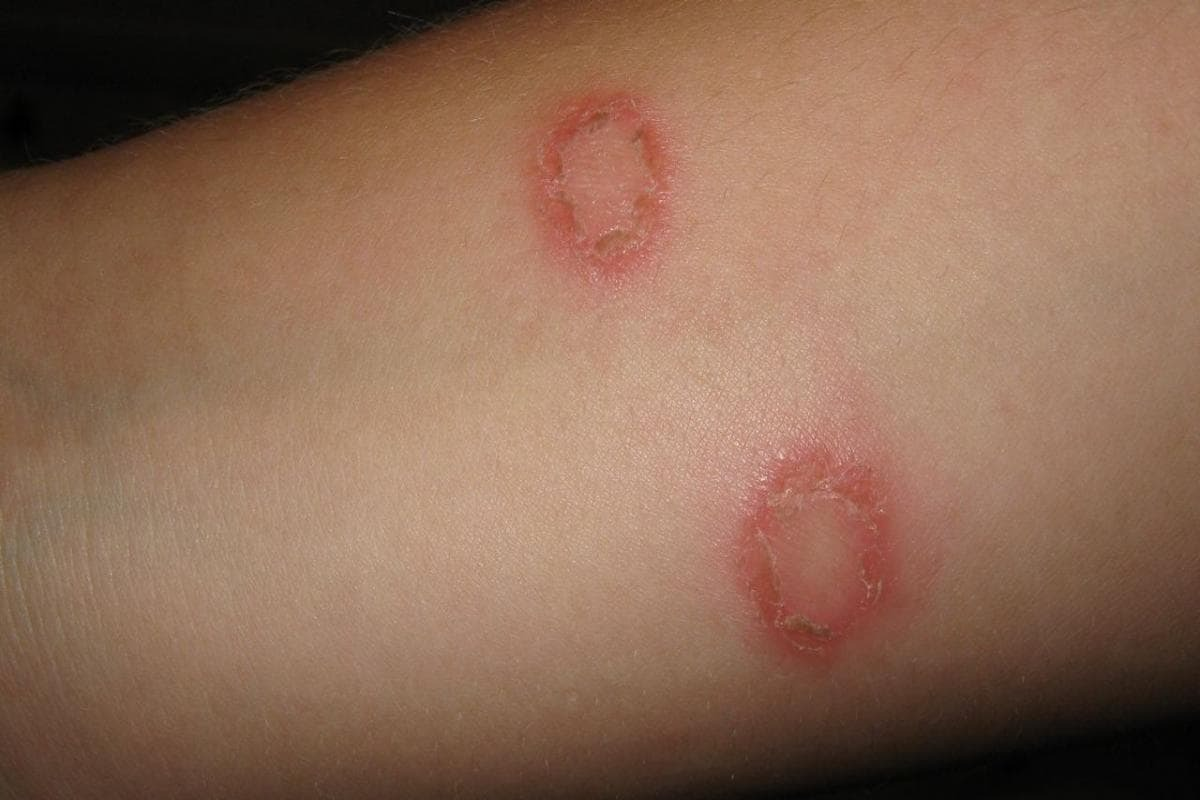Ringworm: (718, 414, 920, 686), (532, 74, 690, 280)
